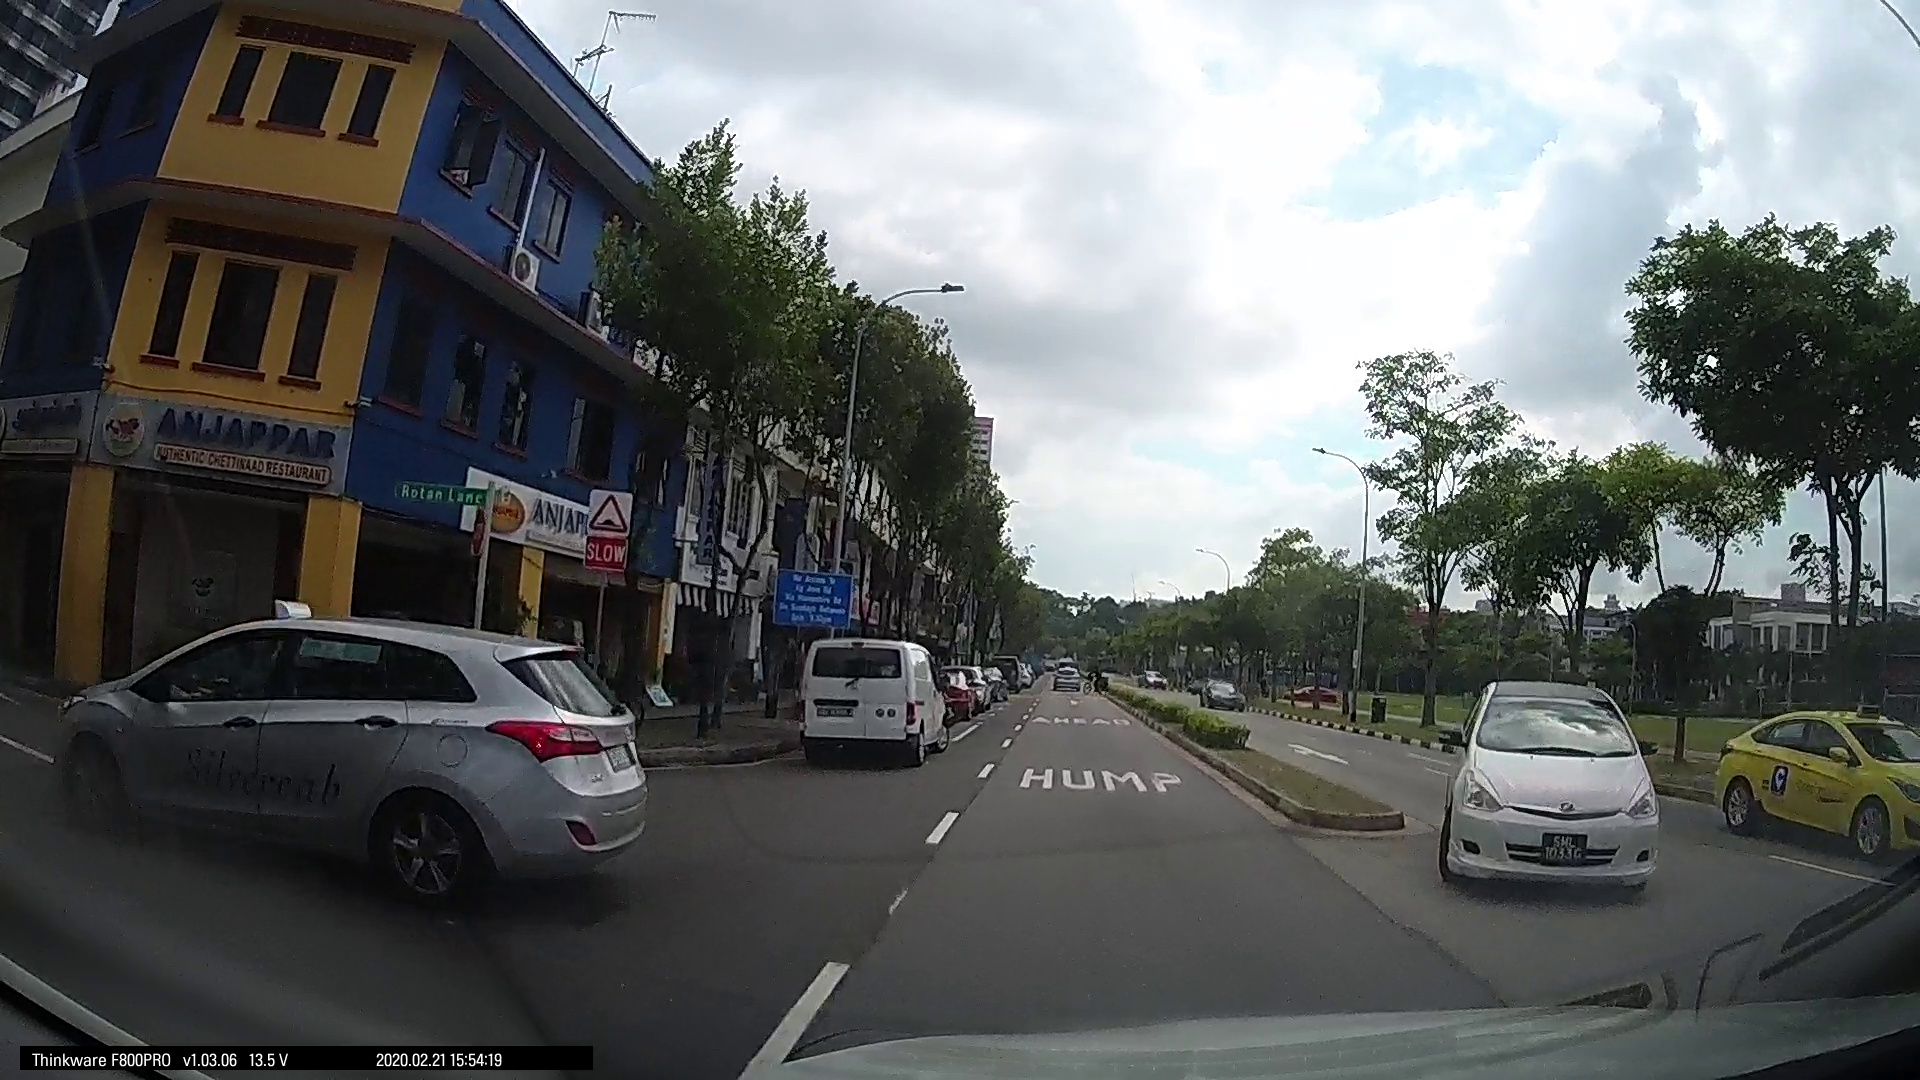Light Vehicle: (30, 613, 659, 898), (1429, 669, 1668, 905), (1705, 702, 1917, 858), (790, 628, 948, 767), (938, 661, 982, 717), (1191, 674, 1242, 720), (1042, 658, 1085, 694)
